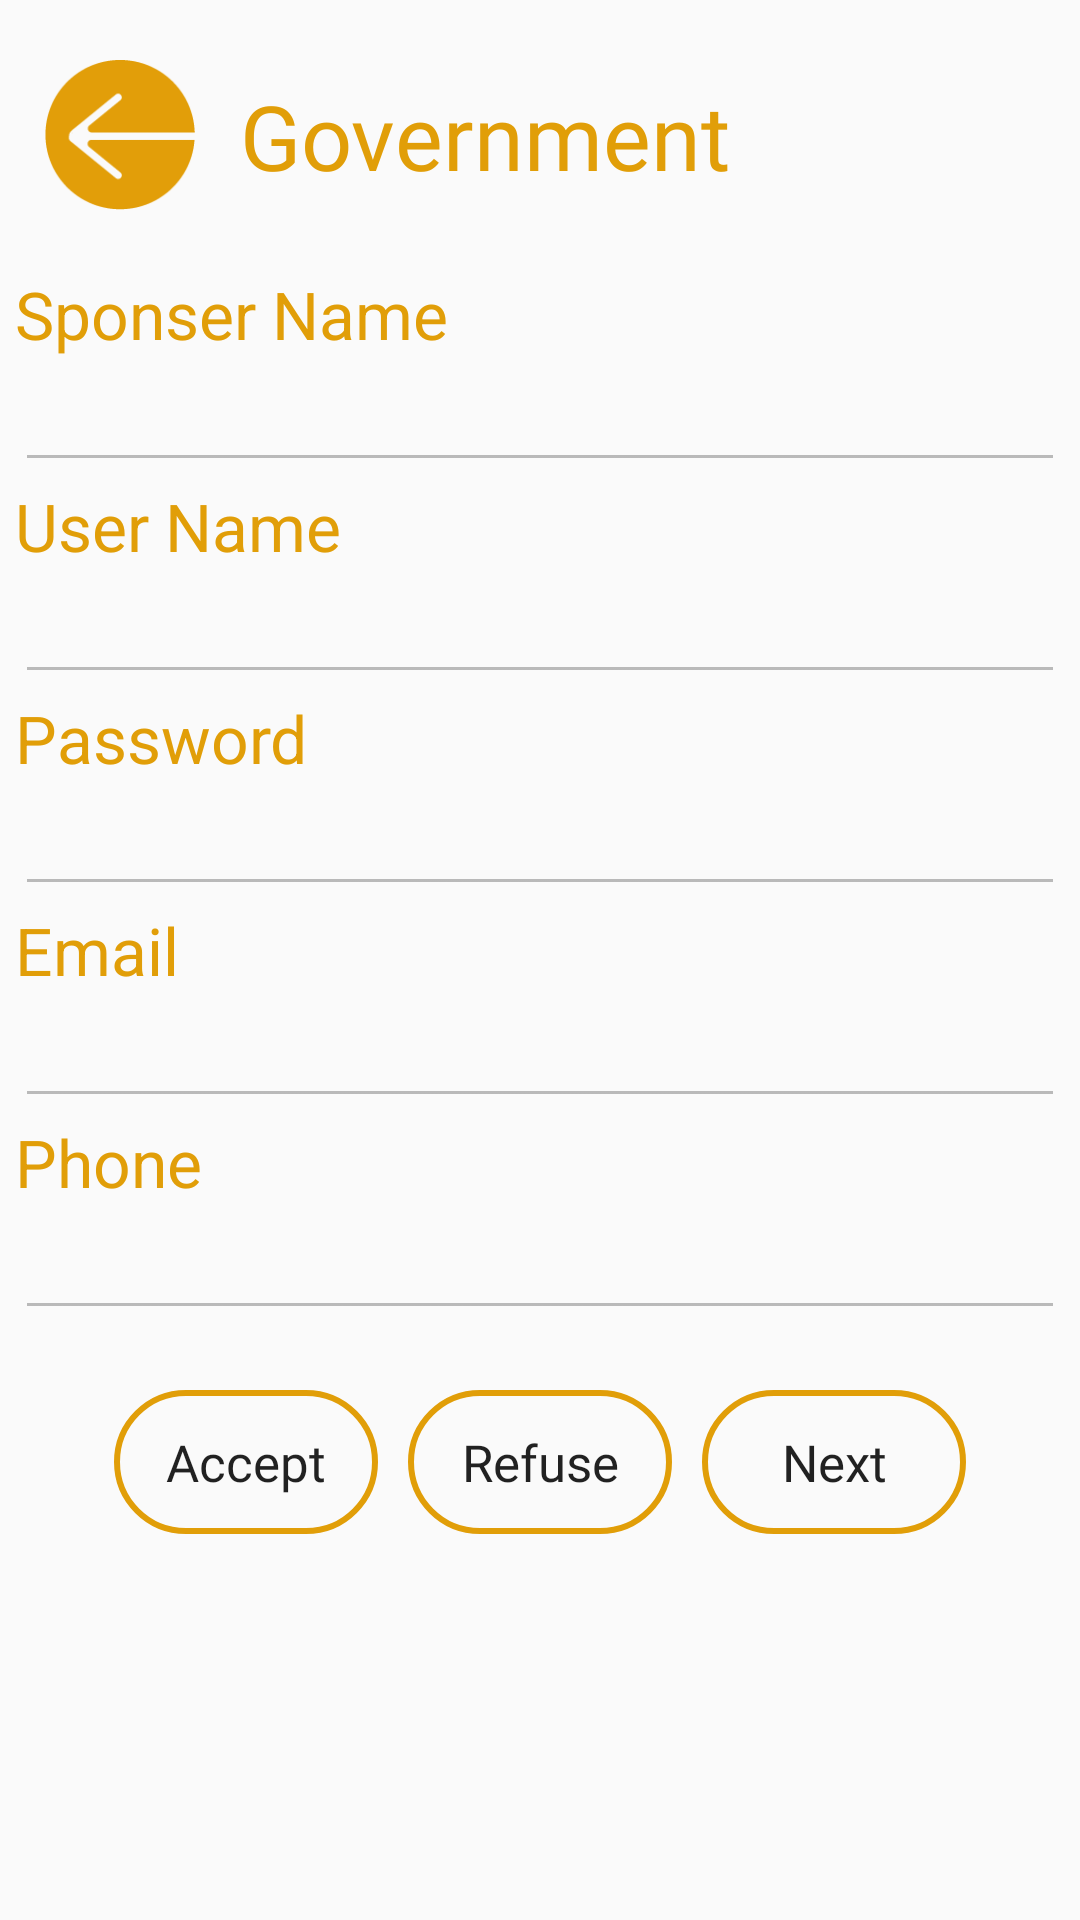

Named icons in this screenshot (1080x1920) and their bounding boxes, (x1=x1, y1=y1, x2=x2, y2=y2):
back: (x1=45, y1=60, x2=195, y2=210)
